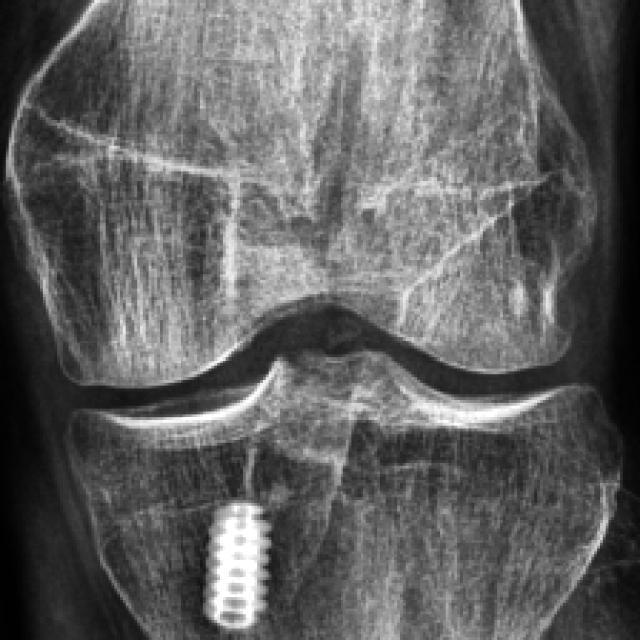femur: (0, 0, 597, 389)
tibia: (64, 350, 623, 640)
